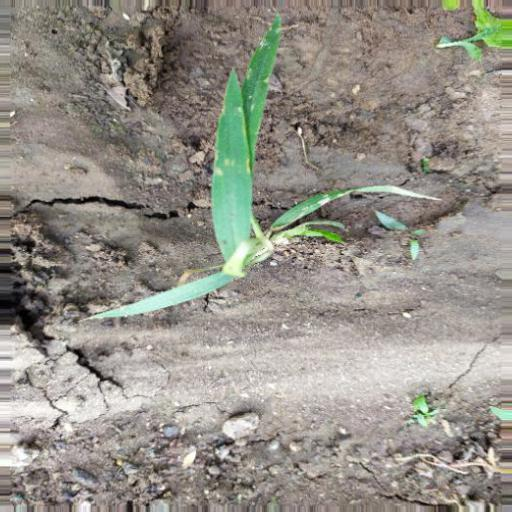weed: (64, 24, 447, 333)
